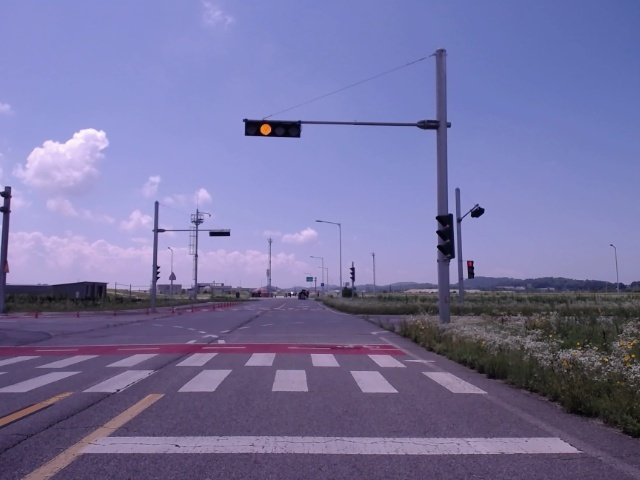orange_4: (244, 120, 301, 137)
